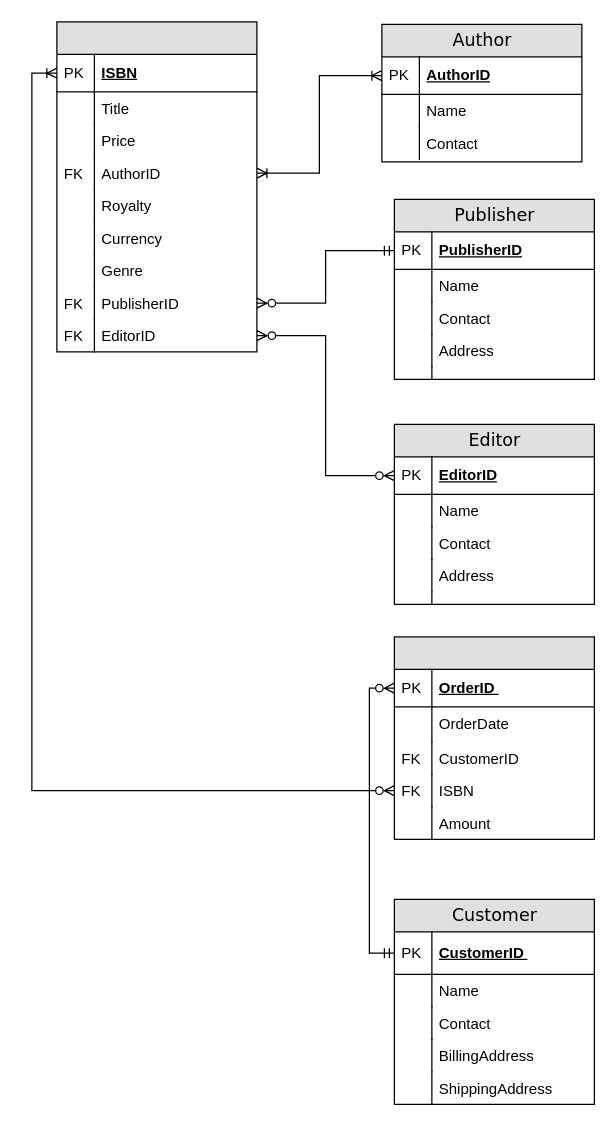
Image size: 616x1130. Some labels were removed from this diagram. The shapes that lost their labels are listed below. From the top down, each one's box as (x1, y1, x2, y2) in pixels, then its label:
(56, 21, 257, 352): Book
(393, 636, 594, 839): Sales
